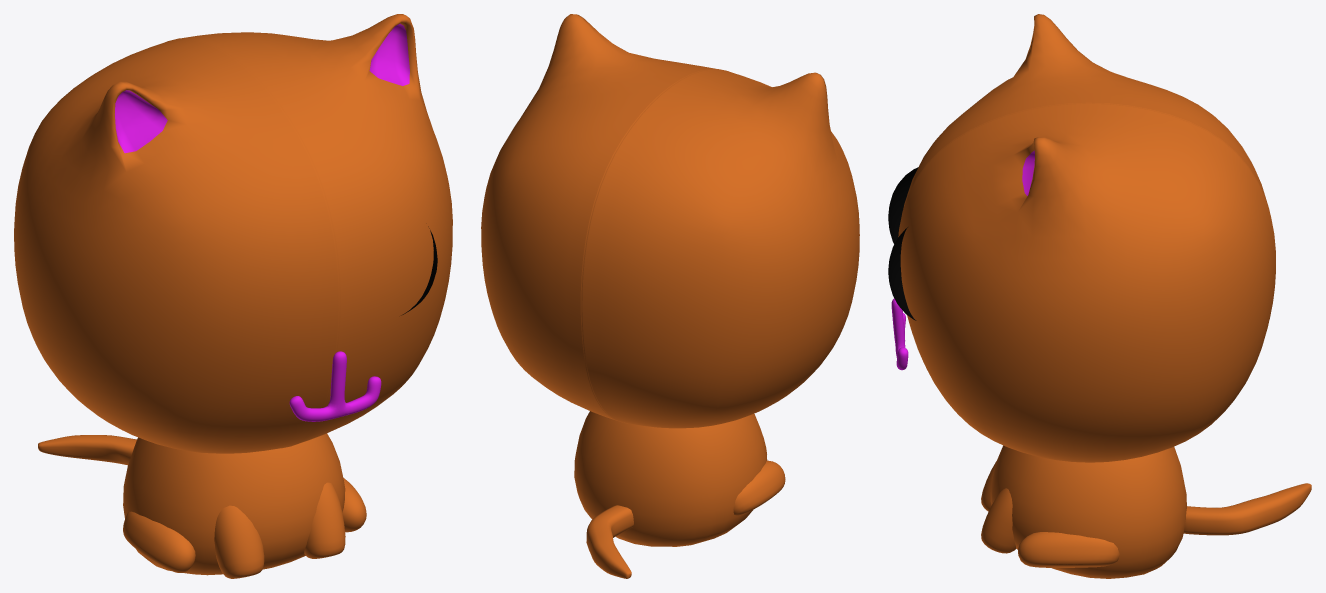
Rendered from Chat.glb.
The picture shows the model from 3 angles, left to right: view 1: azimuth 30°, elevation 25°; view 2: azimuth 150°, elevation 25°; view 3: azimuth 270°, elevation 25°; orthographic projection. The views are drawn at different scales.
Visible parts, largest first — view 1: Cube.002, Cube.003, Cube.006, Cube.004, Bouche.001, Plan; view 2: Cube.002, Cube.003, Plan, Cube.004; view 3: Cube.002, Cube.003, Plan, Cube.004, Cube.006, Cube.005, Bouche.001.
Boxes of the visible parts, left/top/right/bottom form: Cube.002: left=14, top=14, right=452, bottom=453; Cube.003: left=123, top=433, right=345, bottom=575; Cube.006: left=214, top=482, right=345, bottom=578; Cube.004: left=123, top=478, right=366, bottom=572; Bouche.001: left=289, top=351, right=381, bottom=421; Plan: left=38, top=435, right=136, bottom=465; Cube.002: left=481, top=14, right=859, bottom=428; Cube.003: left=574, top=411, right=767, bottom=546; Plan: left=586, top=505, right=633, bottom=578; Cube.004: left=733, top=460, right=785, bottom=515; Cube.002: left=898, top=14, right=1275, bottom=462; Cube.003: left=990, top=445, right=1186, bottom=578; Plan: left=1183, top=483, right=1311, bottom=535; Cube.004: left=1018, top=532, right=1119, bottom=567; Cube.006: left=981, top=461, right=1016, bottom=553; Cube.005: left=888, top=167, right=918, bottom=320; Bouche.001: left=891, top=298, right=908, bottom=370.
Size of the model in its own units: 3.05 by 4.07 by 3.24.
